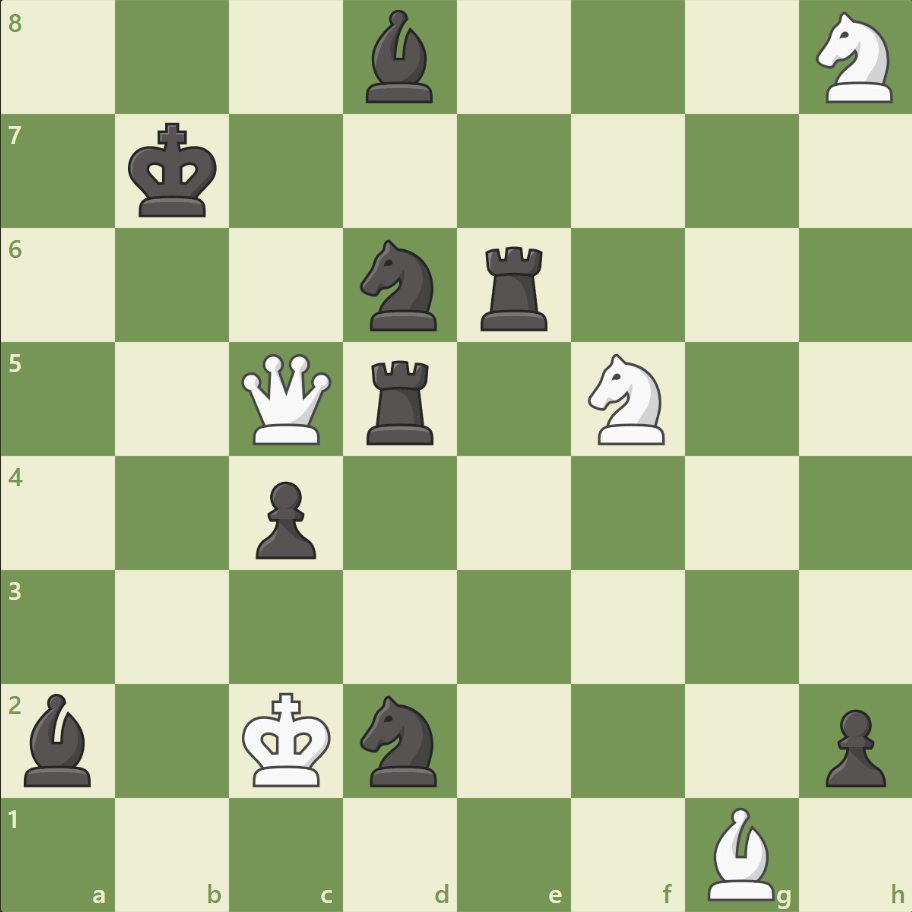B: (698, 801, 782, 904)
K: (238, 685, 338, 793)
N: (806, 7, 903, 110), (579, 348, 676, 450)
Q: (237, 349, 336, 449)
b: (358, 6, 442, 109), (17, 687, 101, 790)
k: (124, 117, 224, 225)
n: (351, 234, 449, 337), (351, 688, 449, 791)
p: (247, 473, 322, 564), (815, 700, 889, 791)
r: (473, 239, 556, 336), (360, 352, 442, 449)
